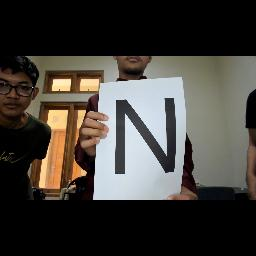n: (104, 94, 184, 182)
